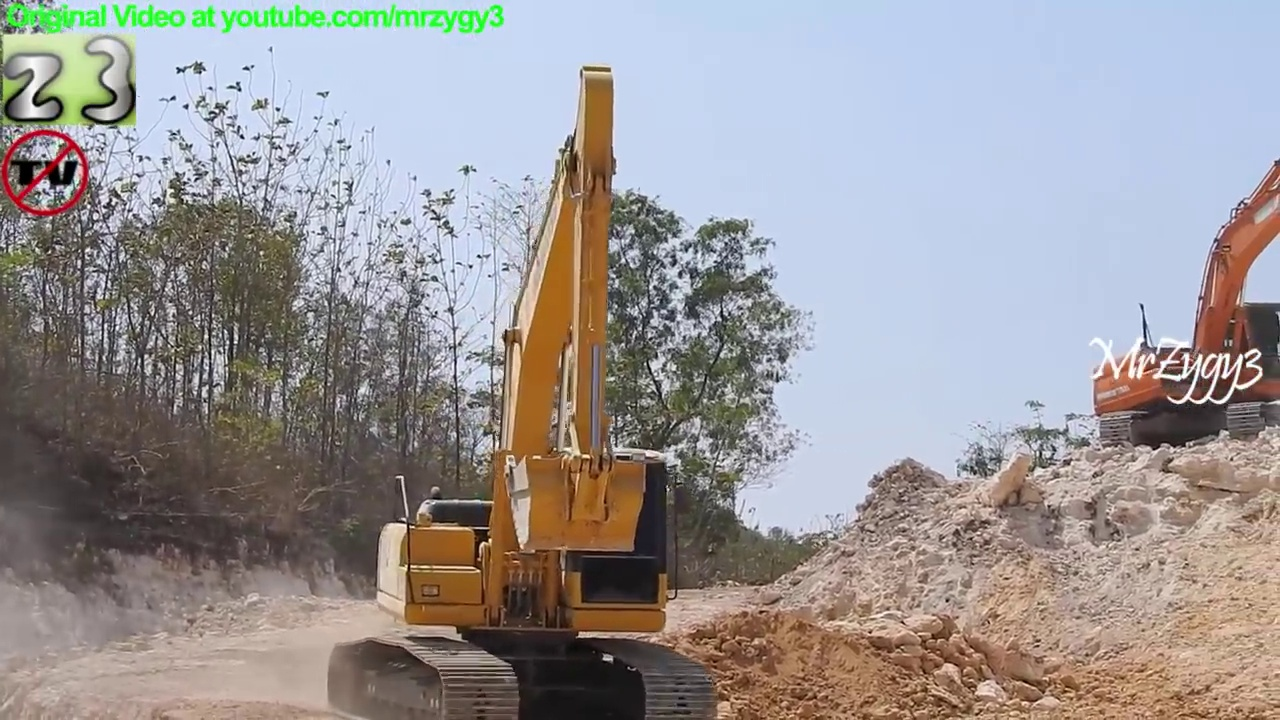excavator: (326, 57, 735, 720), (1091, 148, 1280, 449)
